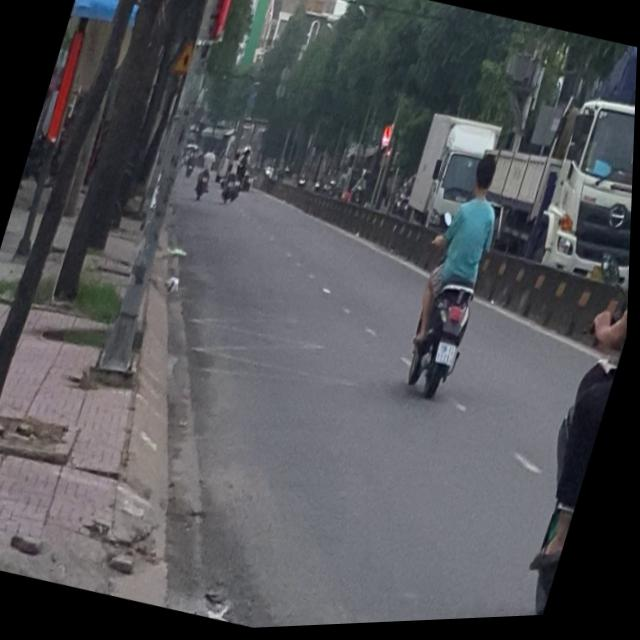licenseplate: (393, 146, 524, 409)
motorcyclist: (470, 152, 504, 203)
nohelmet: (436, 344, 460, 369)
